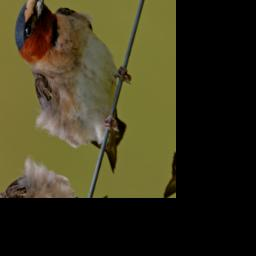Swallow: (0, 0, 150, 175)
